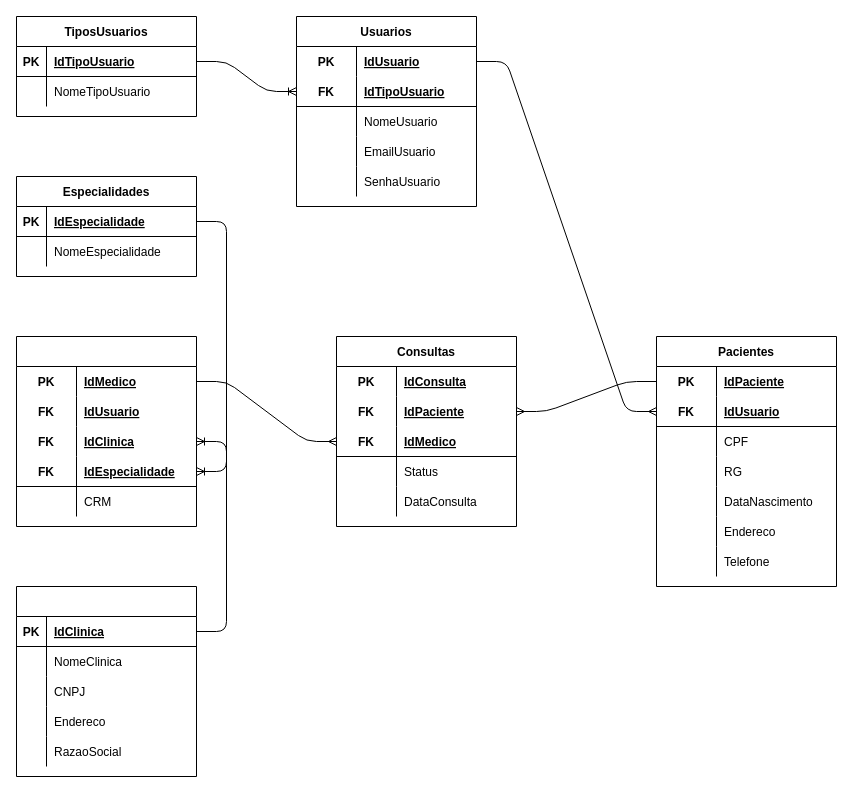
The diagram is 853 pixels wide and 793 high, and some of its shapes have lost their labels. The shapes that lost their labels are listed below. From the top down, each one's box as (x1, y1, x2, y2) in pixels, then its label:
(16, 336, 196, 526): Medicos
(16, 586, 196, 776): Clinicas
